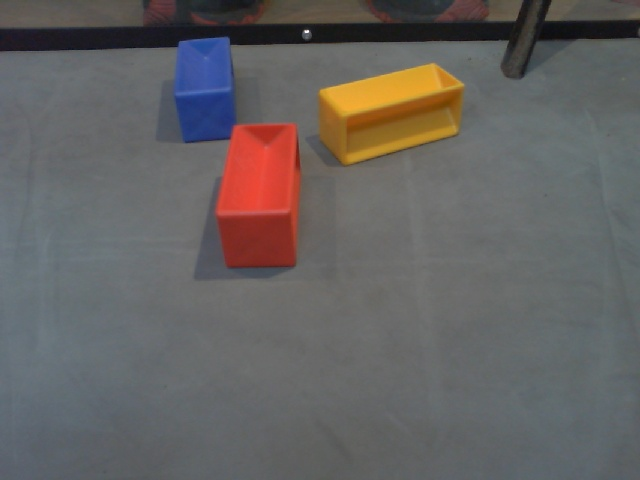BlueSample: (171, 36, 242, 146)
RedSample: (213, 121, 303, 273)
YellowSample: (313, 63, 468, 165)
